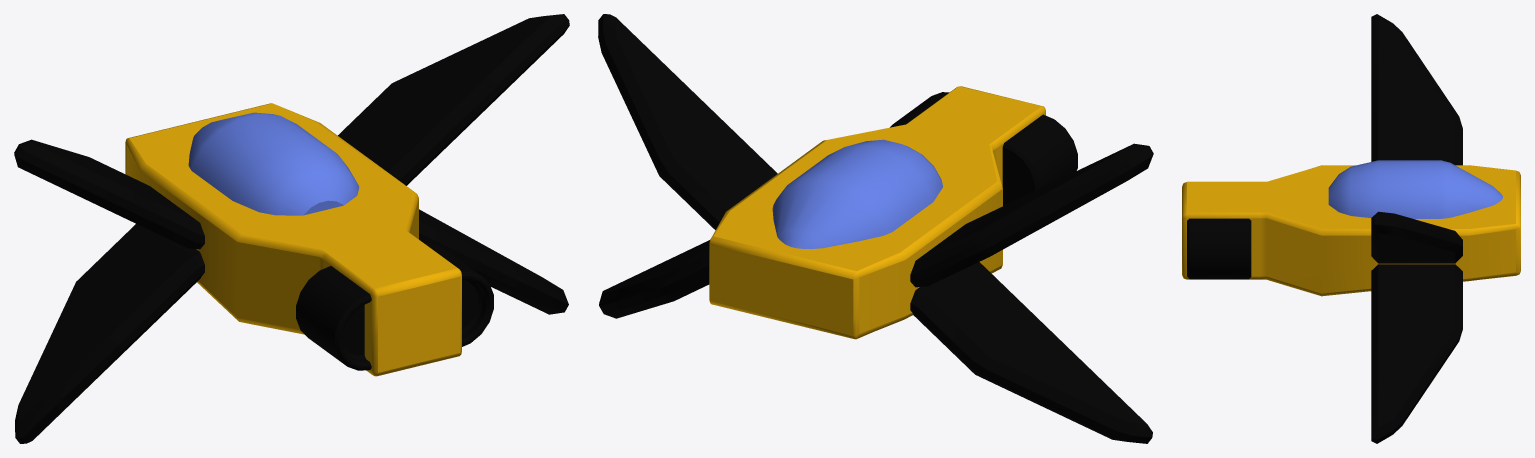
Rendered from Ship.fbx.
3 renders of one model, left to right at view 1: azimuth 30°, elevation 25°; view 2: azimuth 150°, elevation 25°; view 3: azimuth 270°, elevation 25°, orthographic. The views are drawn at different scales.
Parts seen in each view (by area): view 1: body, wings_up, wings_low, cabine, truster; view 2: body, wings_up, wings_low, cabine, truster; view 3: body, wings_up, wings_low, cabine, truster.
Part boxes in pixels (left/top/right/bottom): body: left=125, top=103, right=461, bottom=376; wings_up: left=14, top=14, right=569, bottom=249; wings_low: left=15, top=209, right=568, bottom=443; cabine: left=188, top=112, right=359, bottom=215; truster: left=296, top=243, right=493, bottom=370; body: left=709, top=86, right=1045, bottom=339; wings_up: left=598, top=14, right=1153, bottom=287; wings_low: left=599, top=240, right=1152, bottom=443; cabine: left=772, top=139, right=943, bottom=248; truster: left=890, top=92, right=1077, bottom=205; body: left=1182, top=165, right=1520, bottom=296; wings_up: left=1371, top=14, right=1462, bottom=263; wings_low: left=1371, top=264, right=1462, bottom=443; cabine: left=1328, top=160, right=1502, bottom=218; truster: left=1187, top=218, right=1251, bottom=279.
Size of the model in its own units: 660 by 339 by 457.
